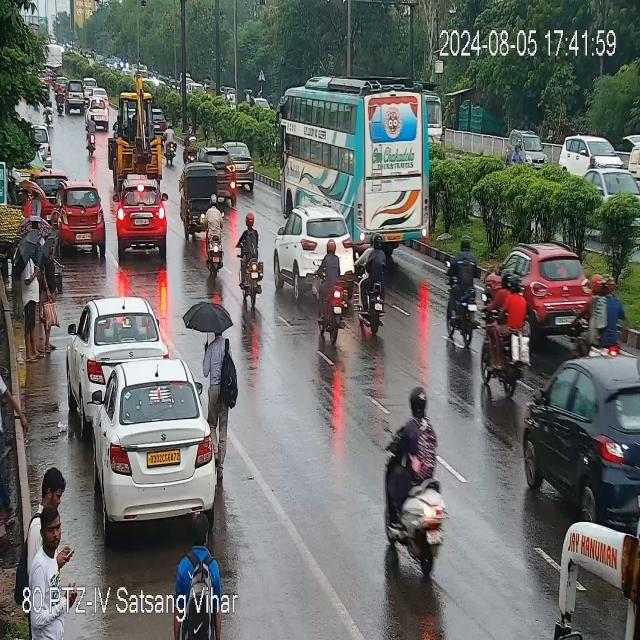2-wheelers: (380, 389, 443, 574), (487, 270, 526, 386), (448, 228, 479, 359), (582, 277, 630, 356), (317, 239, 348, 339), (354, 236, 386, 330), (236, 212, 261, 298), (202, 202, 227, 275), (163, 122, 180, 166), (84, 118, 100, 156), (186, 124, 197, 162), (510, 142, 524, 164), (42, 100, 52, 124), (57, 86, 63, 111), (589, 152, 597, 170), (226, 89, 232, 102), (249, 94, 255, 105)
auto: (180, 162, 219, 235)
bus: (281, 68, 444, 256), (548, 508, 636, 639)
car: (76, 361, 224, 531), (532, 352, 640, 513), (70, 298, 162, 393), (505, 243, 590, 326), (274, 206, 352, 286), (116, 183, 168, 250), (56, 190, 105, 252), (559, 135, 625, 177), (587, 166, 640, 212), (202, 150, 236, 198), (504, 129, 550, 164), (228, 136, 256, 191), (84, 94, 114, 126), (63, 79, 90, 113), (37, 126, 56, 167)
pedestrian: (201, 307, 234, 441), (26, 512, 75, 594), (172, 530, 215, 607), (20, 216, 41, 356), (44, 230, 57, 349), (39, 464, 68, 508), (19, 188, 33, 216), (32, 192, 45, 217)
truck: (111, 90, 169, 179), (426, 80, 448, 149)
